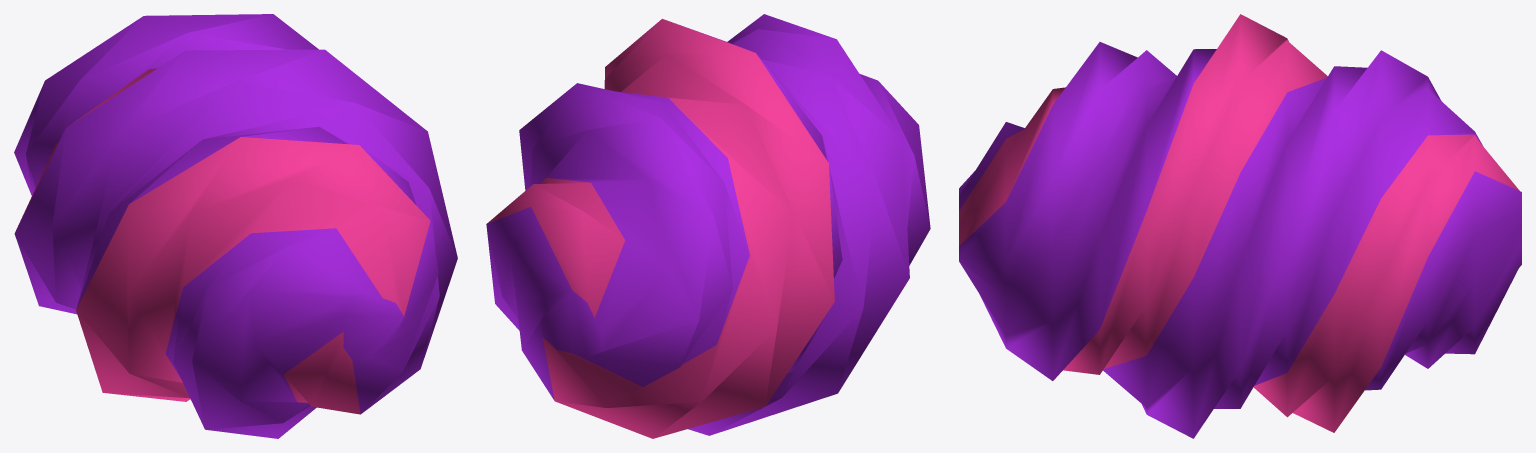
File: Candy_05.fbx
3 renders of one model, left to right at view 1: azimuth 30°, elevation 25°; view 2: azimuth 150°, elevation 25°; view 3: azimuth 270°, elevation 25°, orthographic. The views are drawn at different scales.
Visible parts, largest first — view 1: Purple_twist; view 2: Purple_twist; view 3: Purple_twist.
Boxes of the visible parts, x1,y1,x2,y2 form: Purple_twist: [14, 14, 457, 438]; Purple_twist: [486, 14, 930, 438]; Purple_twist: [959, 14, 1521, 438].
Size of the model in its own units: 70.85 by 70.85 by 94.
